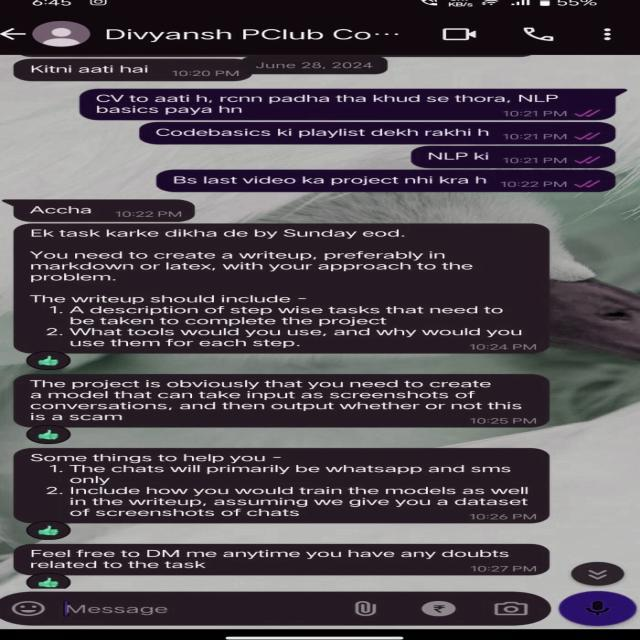scam: (16, 226, 556, 354), (12, 449, 552, 524), (13, 373, 556, 428), (12, 543, 552, 576), (13, 59, 255, 82), (12, 198, 199, 221)
